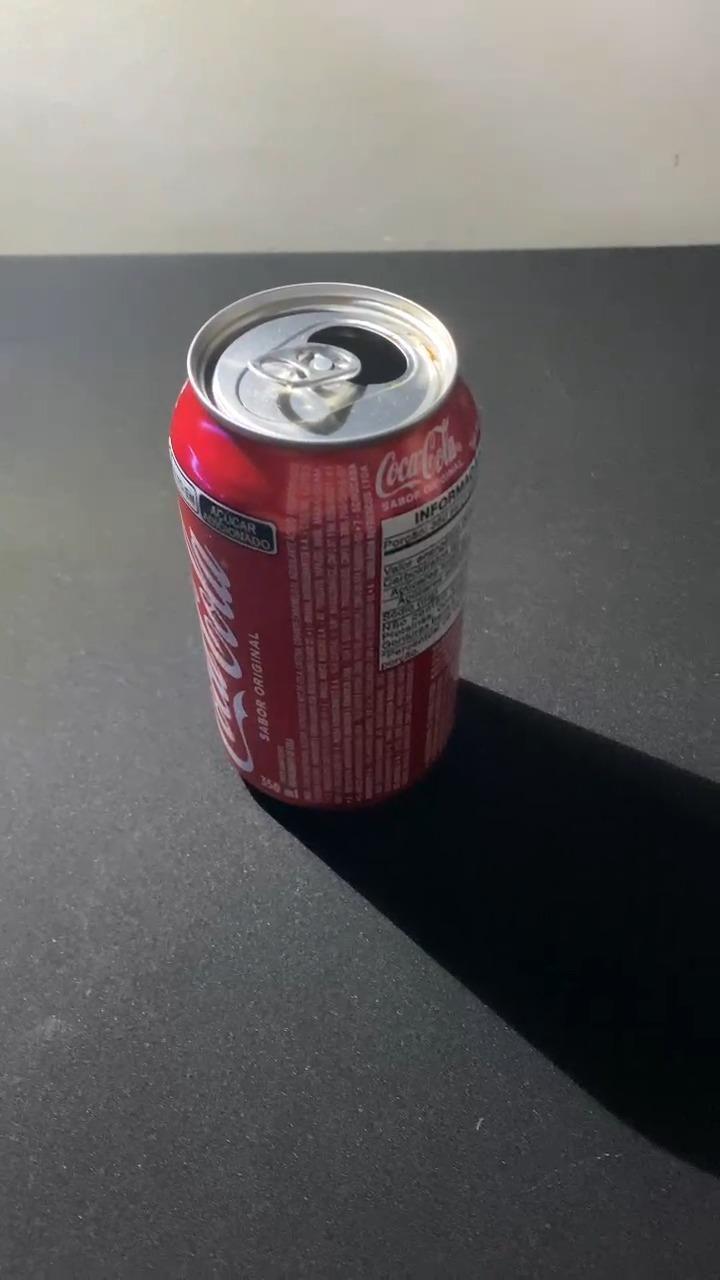coke: (171, 284, 479, 808)
